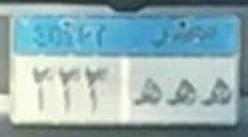3: (84, 65, 111, 116), (29, 64, 56, 113), (58, 65, 81, 115)
haa: (200, 75, 233, 113), (165, 76, 198, 111), (129, 74, 162, 109)
